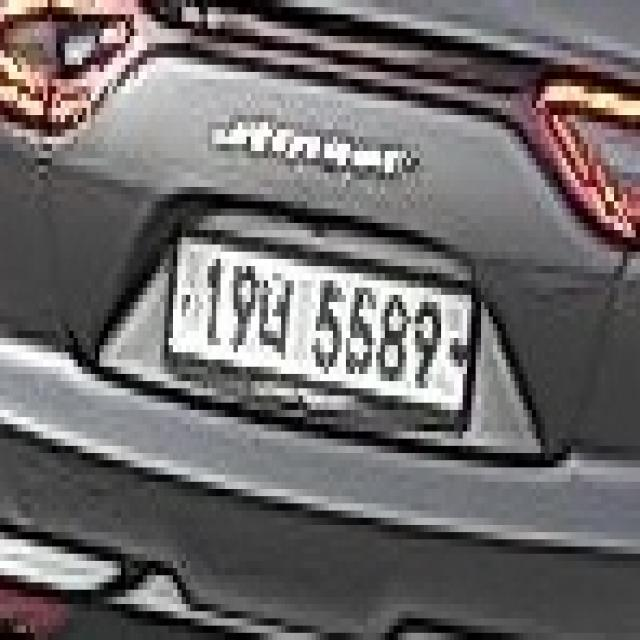1: (194, 252, 225, 352)
5: (307, 266, 346, 374), (342, 273, 376, 381)
8: (376, 288, 411, 388)
9: (225, 252, 259, 360), (407, 288, 441, 396)
license_plate: (156, 216, 480, 438)
neo: (255, 266, 294, 360)
